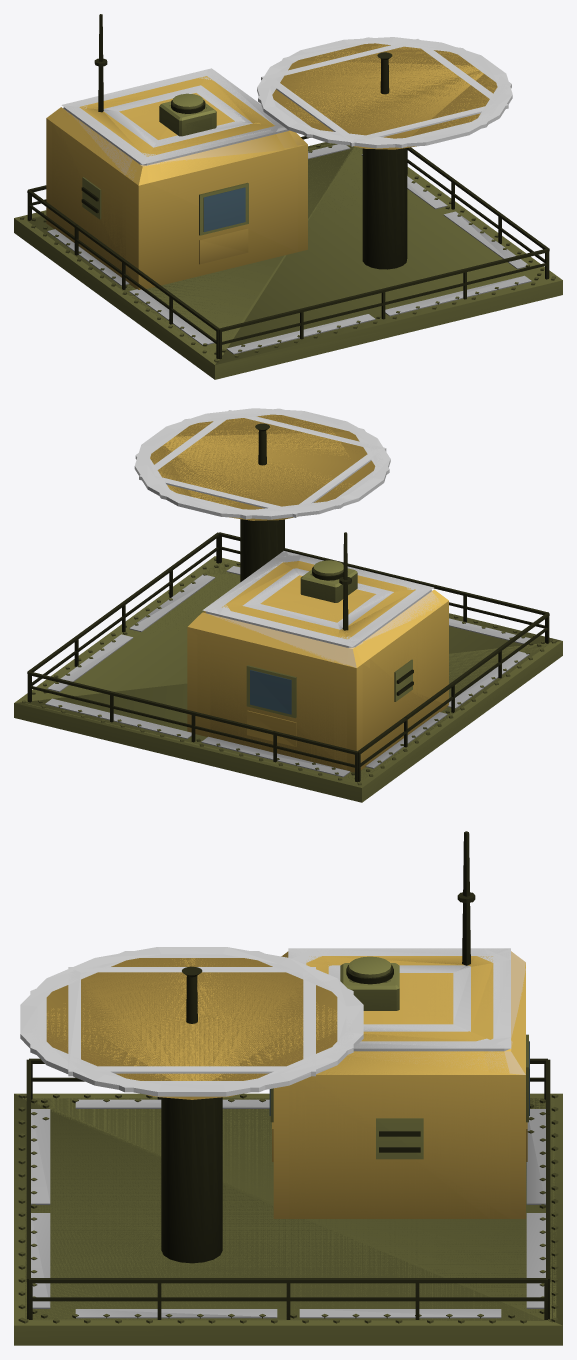
The model's file is meridian_radar.glb.
3 views of the same model, one above another, from view 1: azimuth 30°, elevation 25°; view 2: azimuth 150°, elevation 25°; view 3: azimuth 270°, elevation 25° (orthographic). The views are drawn at different scales.
Visible parts, largest first — view 1: body (×3); view 2: body (×3); view 3: body (×3).
Part boxes in pixels (left/top/right/bottom): body (×3): left=14, top=14, right=562, bottom=379; body (×3): left=14, top=408, right=562, bottom=802; body (×3): left=14, top=831, right=562, bottom=1345.
Bounding box in the file's own units: 7.4 × 4.7 × 7.4.
